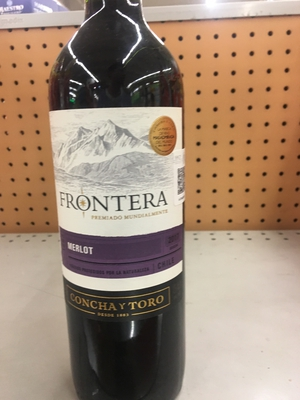frontera merlot: (49, 6, 200, 395)
